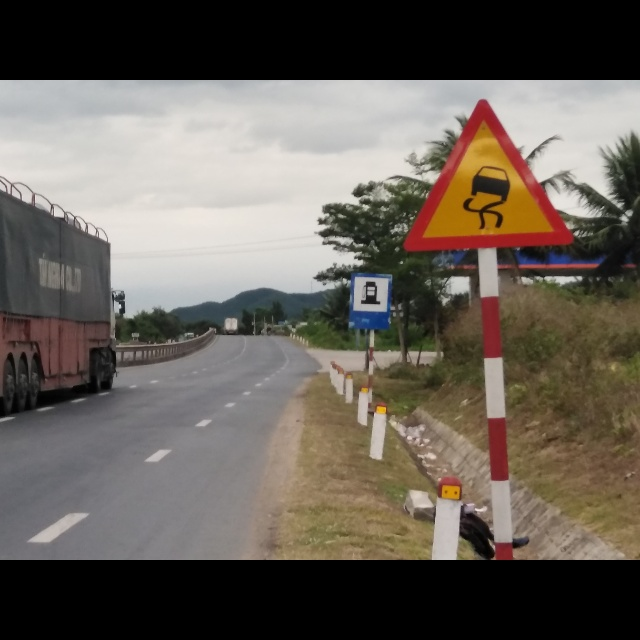Đường trơn trượt: (403, 99, 573, 248)
